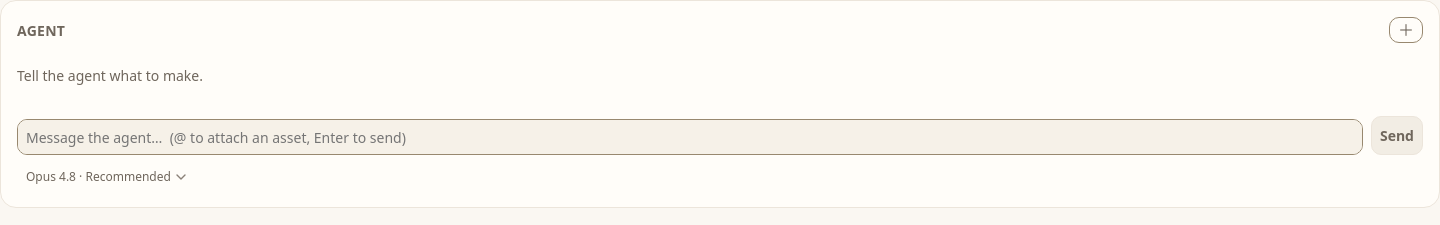
it: ChatPanel @ mention menu › Enter with the menu open inserts the token and does NOT send
In the dropdown with class "composer-input": [690, 137] box [17, 119, 1363, 155], type "use @hoo"
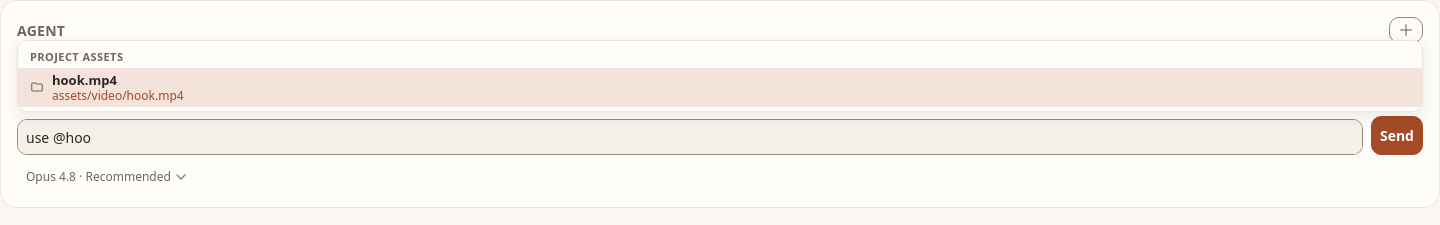
Expected: the list is shown, [17, 40, 1423, 112]
Press Enter in the dropdown with class "composer-input", box [17, 119, 1363, 155]
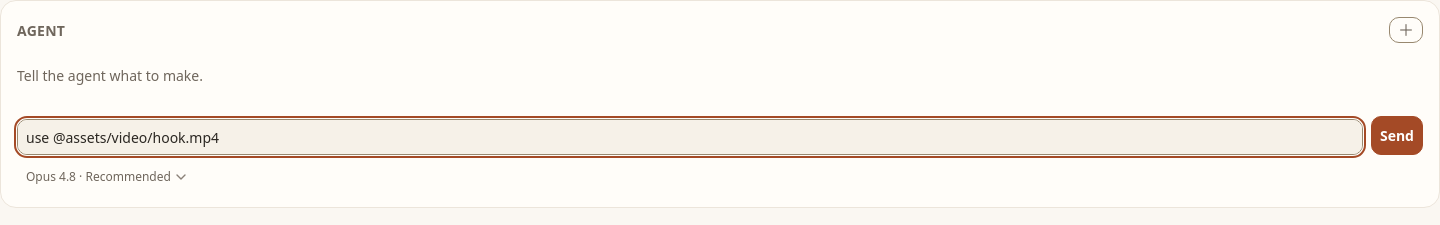
Expected: the dropdown with class "composer-input" holds "use @assets/video/hook.mp4 ", [17, 119, 1363, 155]
Expected: the list is gone
